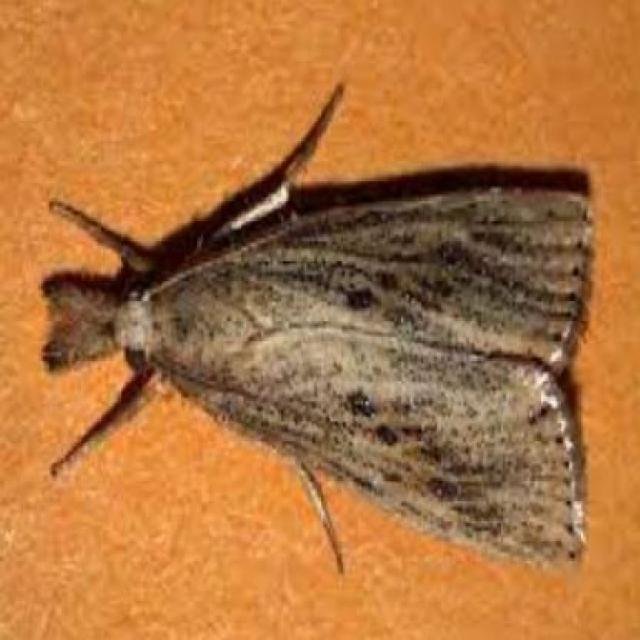stem-borer: (37, 75, 601, 580)
